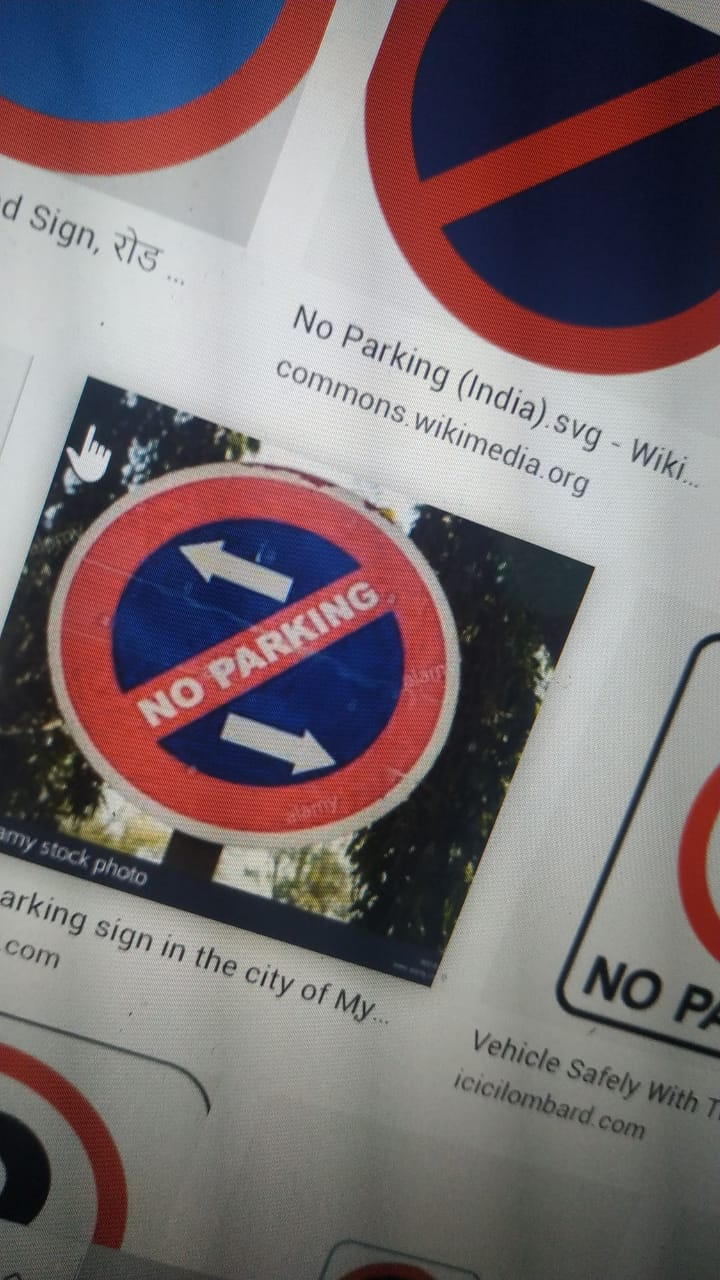NO PARKING: (55, 449, 460, 860)
